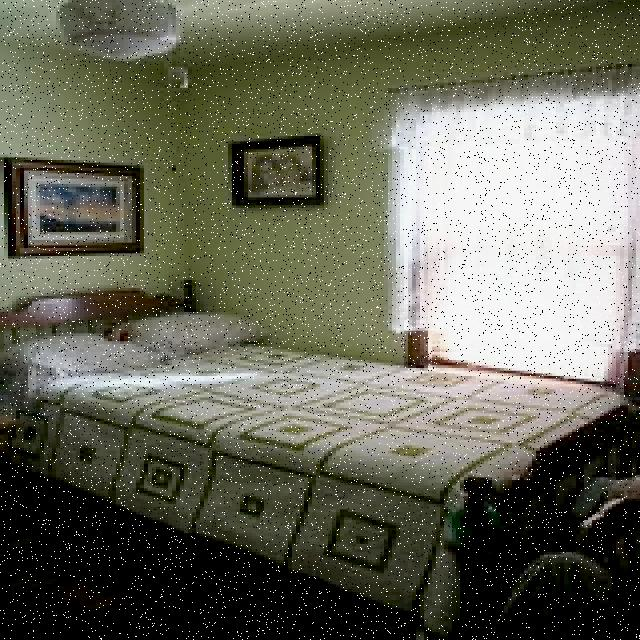bed: (17, 291, 640, 632)
